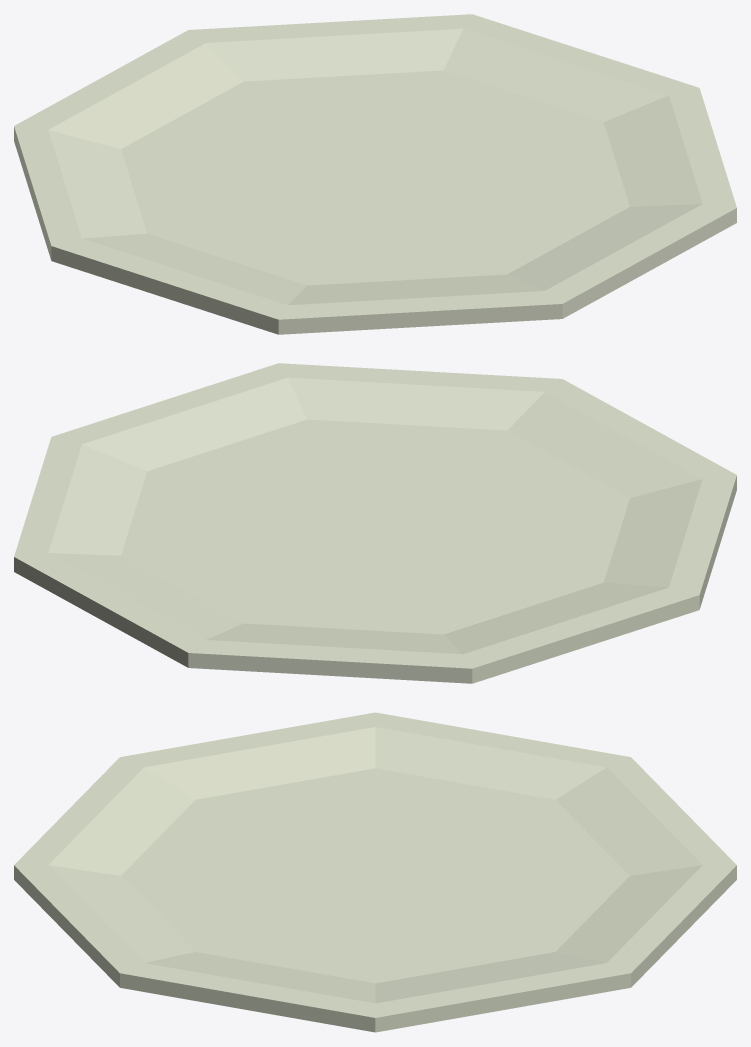
The model's file is plato.fbx.
The picture shows the model from 3 angles, top to bottom: view 1: azimuth 30°, elevation 25°; view 2: azimuth 150°, elevation 25°; view 3: azimuth 270°, elevation 25°; orthographic projection. The views are drawn at different scales.
Visible parts, largest first — view 1: plato; view 2: plato; view 3: plato.
Boxes of the visible parts, <box> form: plato: <box>14,14,736,334</box>; plato: <box>14,363,736,683</box>; plato: <box>14,712,736,1032</box>.
Size of the model in its own units: 15 by 15 by 1.
